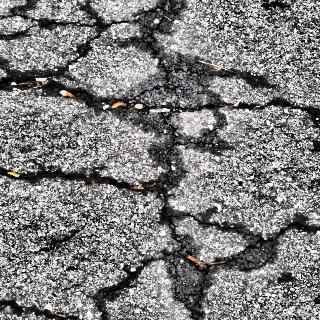alligator-crack: (11, 14, 311, 319)
